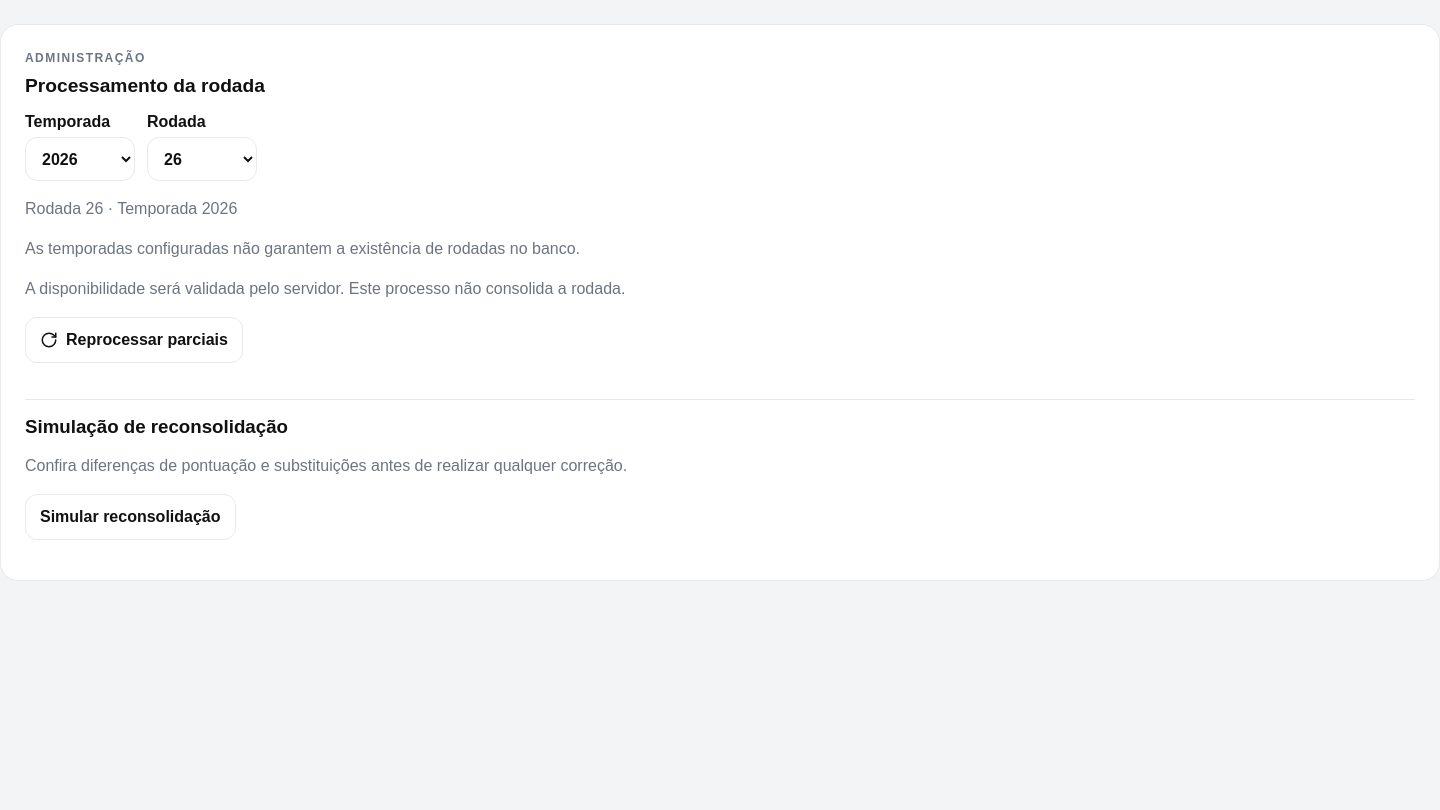
Test case: trata erro 409 Rodada consolidada
The image size is (1440, 810).
Click the button "Reprocessar parciais" at (134, 340), box [25,317,243,363]
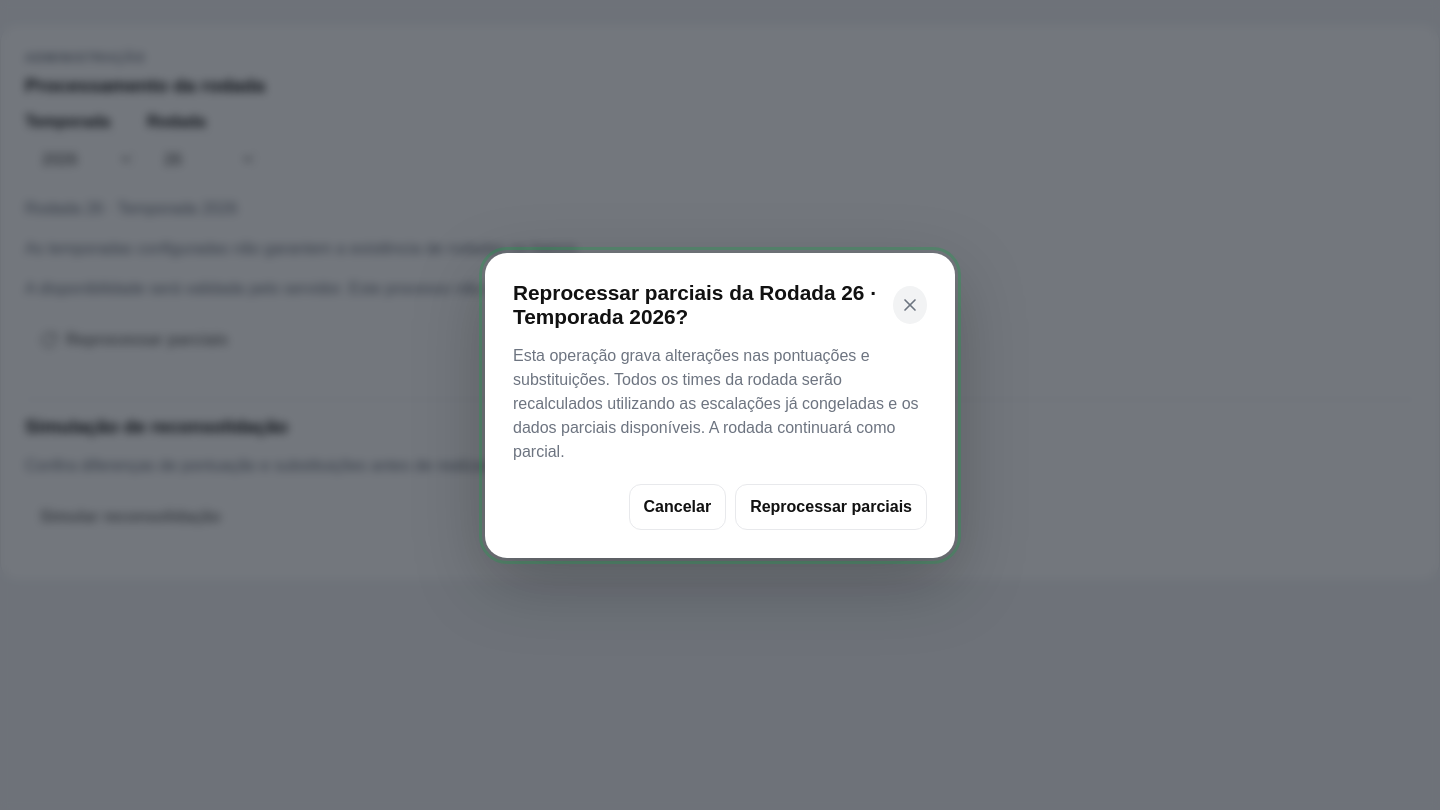
Click the 2nd button "Reprocessar parciais" at (831, 506), box [735,484,927,530]
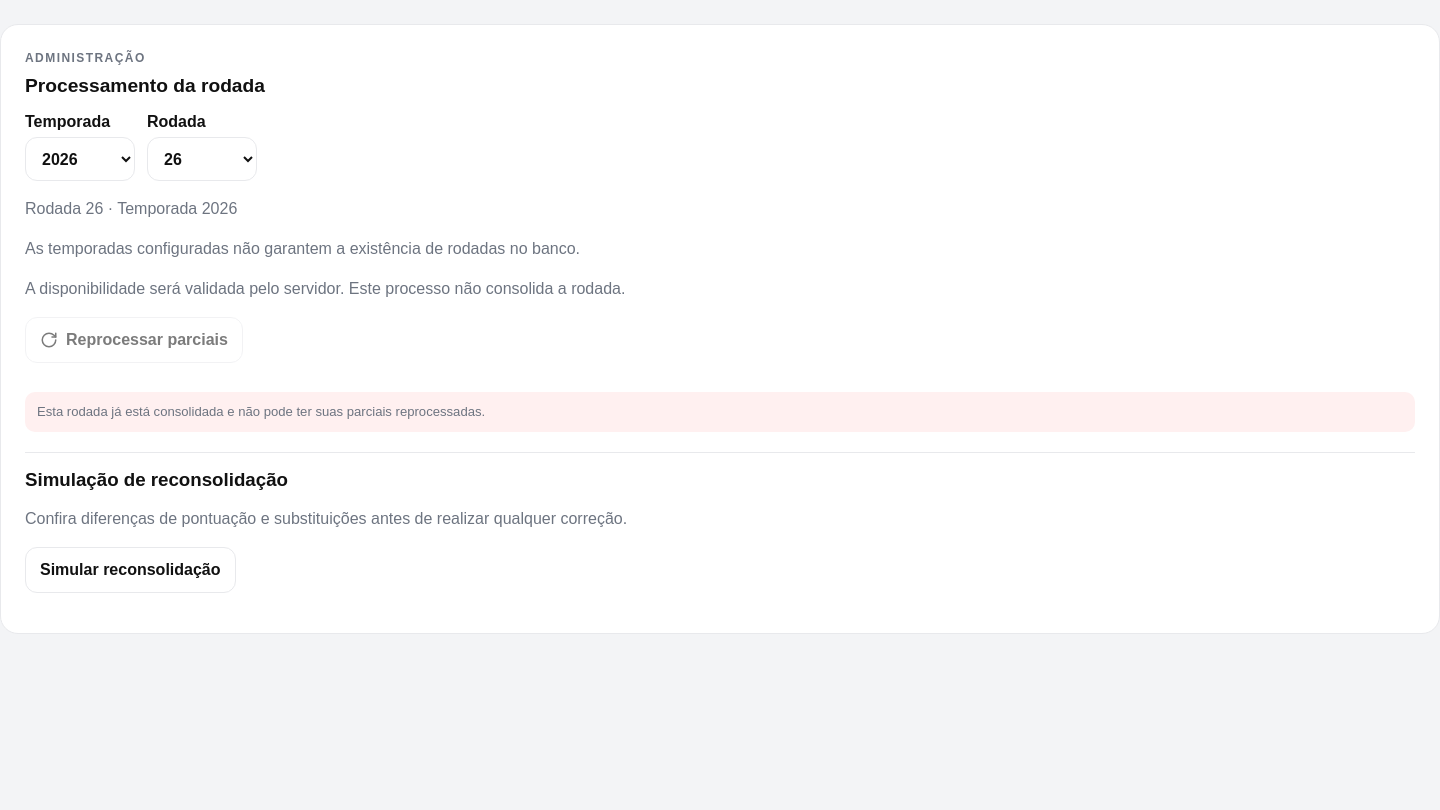
Now the message reads "Esta rodada já está consolidada e não pode ter suas parciais reprocessadas.", box [37,404,485,419]
